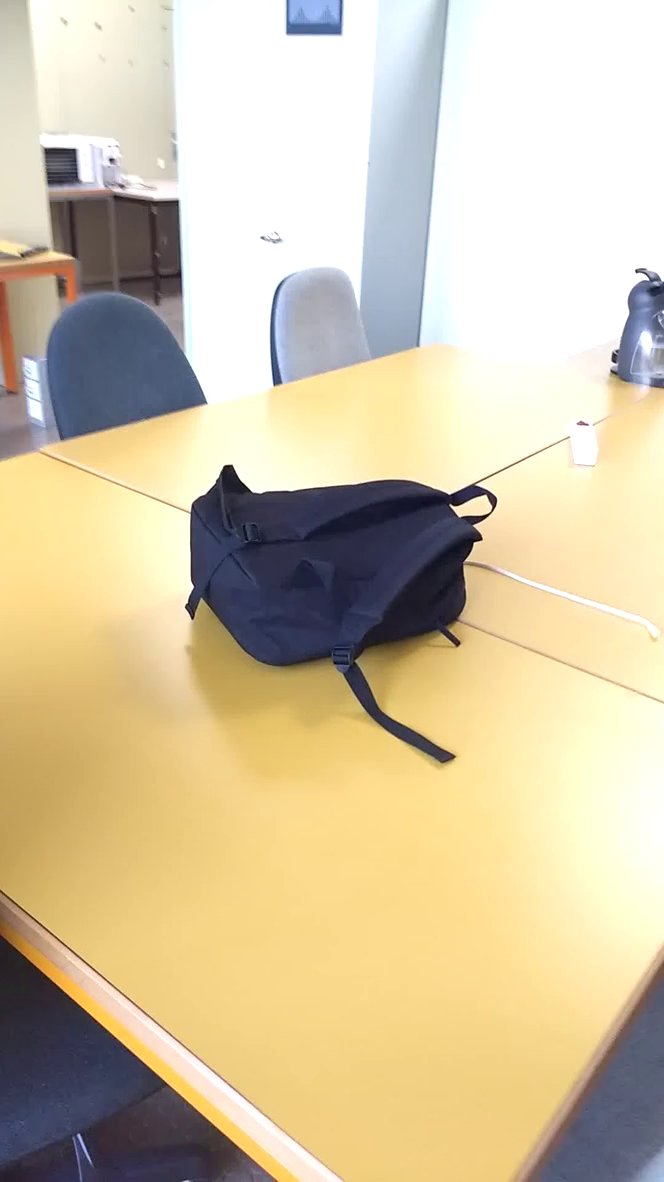bag: (157, 453, 510, 778)
chair: (31, 281, 216, 451), (255, 261, 404, 391)
